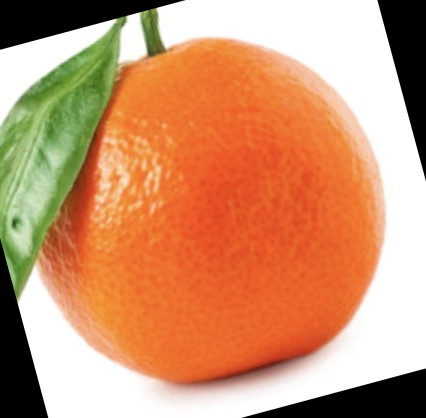fresh_orange: (32, 36, 386, 381)
